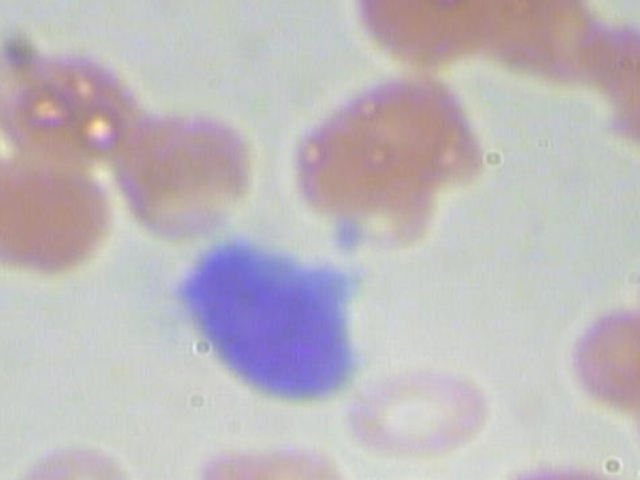Platelets: (325, 214, 366, 259)
RBC: (290, 88, 440, 228), (108, 104, 258, 243), (0, 145, 121, 285), (341, 367, 491, 455), (344, 0, 500, 80), (569, 297, 640, 415), (201, 437, 361, 480), (598, 25, 640, 159), (13, 437, 137, 480)
WBC: (167, 237, 363, 404)
